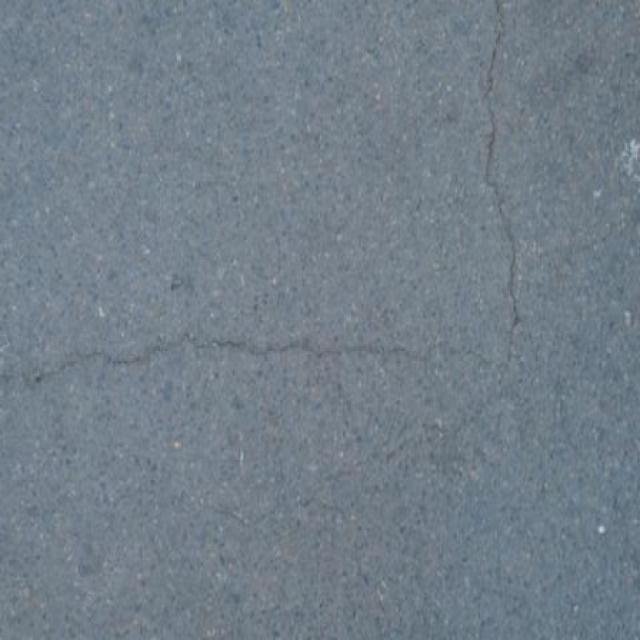Alligator Crack: (2, 0, 523, 444)
